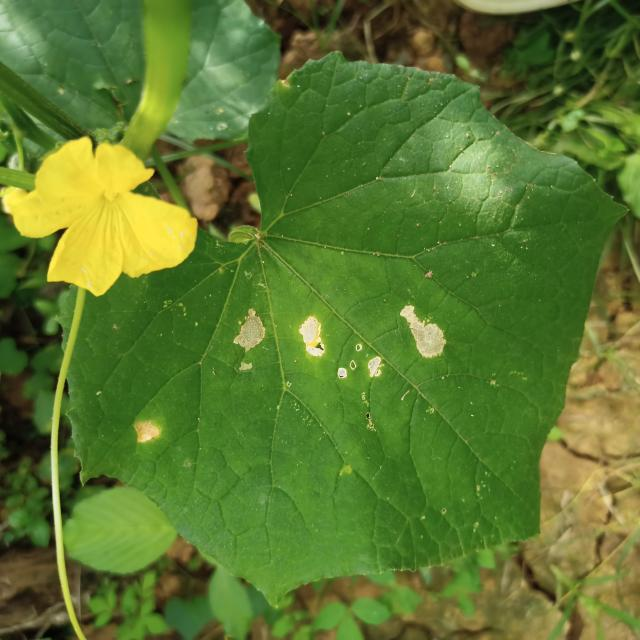disease_cucumber: (233, 306, 448, 384), (131, 419, 163, 446)
